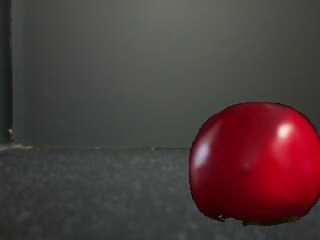Tomato: (189, 101, 320, 228)
